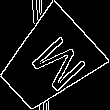M_SW: (15, 28, 82, 96)
